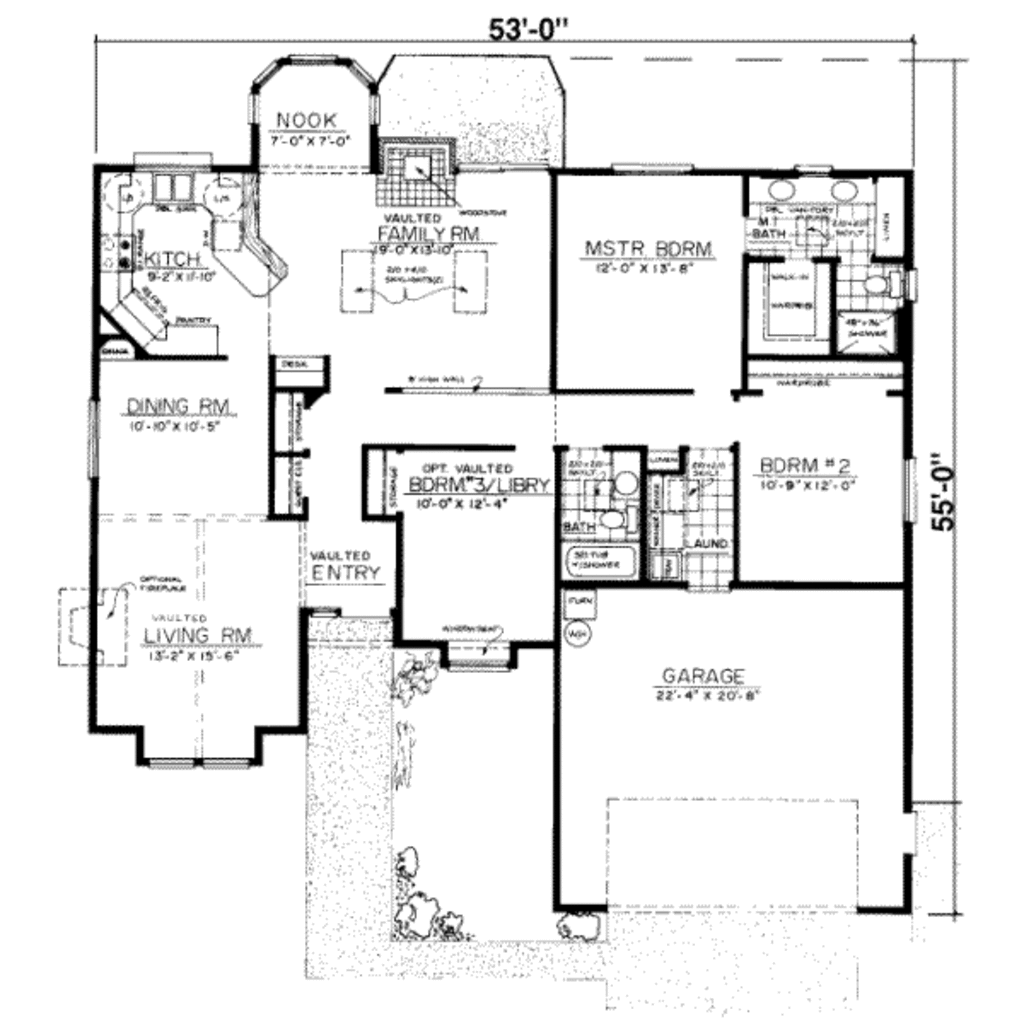large_sink: (847, 256, 929, 313), (598, 505, 647, 541)
small_sink: (755, 160, 872, 221), (607, 441, 642, 507)
tub: (555, 534, 645, 581)
twin_sink: (153, 165, 213, 210)
window: (240, 49, 388, 126), (137, 741, 261, 775), (67, 384, 109, 481), (604, 151, 699, 186), (898, 453, 931, 535), (439, 657, 521, 676)
